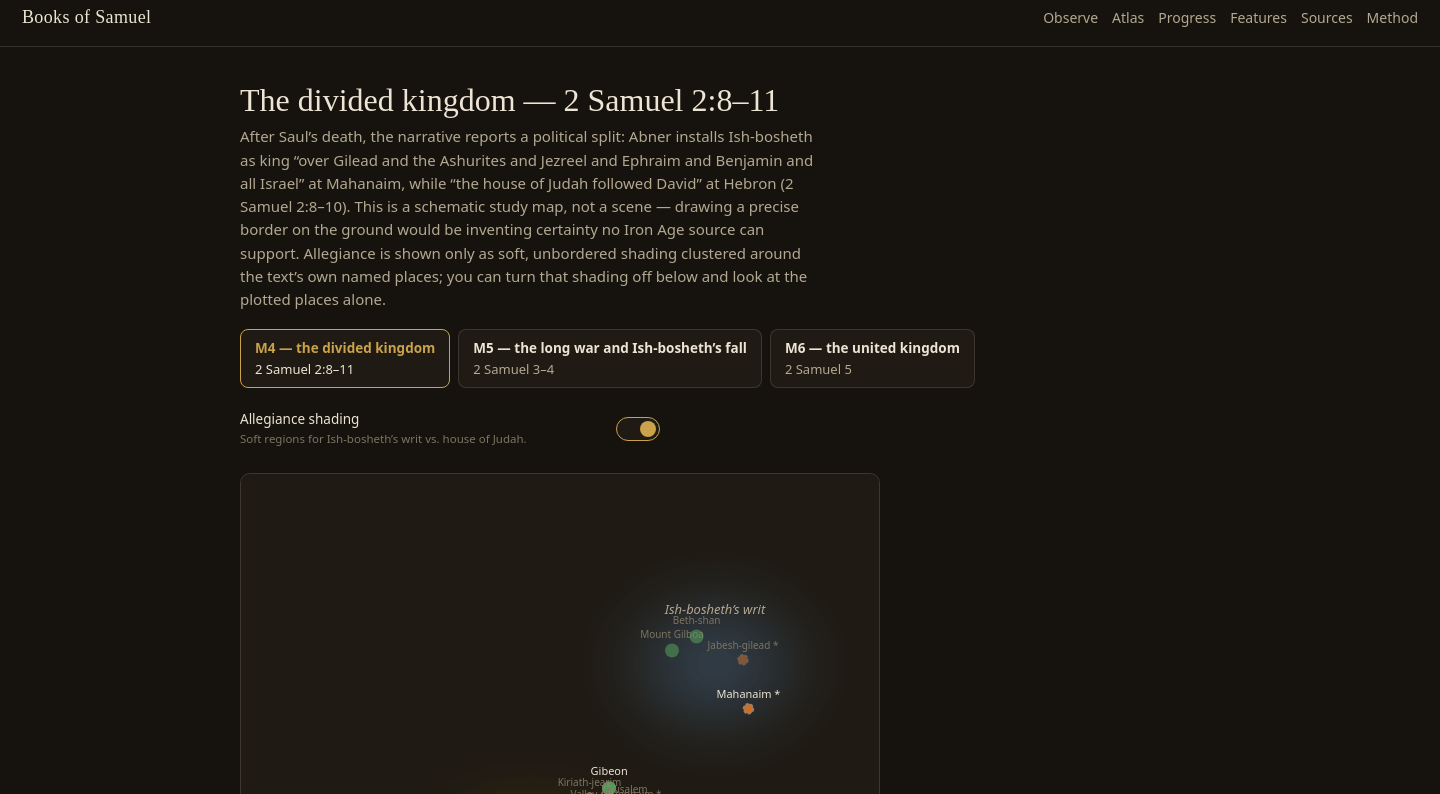
Scenario: AtlasPage M5 phase (2 Samuel 3–4 long war + northern collapse) › cites the cross-referenced M5 claims (long war, Abner’s break and killing, public response, assassination, atlas M5 phase)
Click the tab with test id "atlas-phase-m5" at (610, 359), box [458,329,762,388]
(page scrolled)
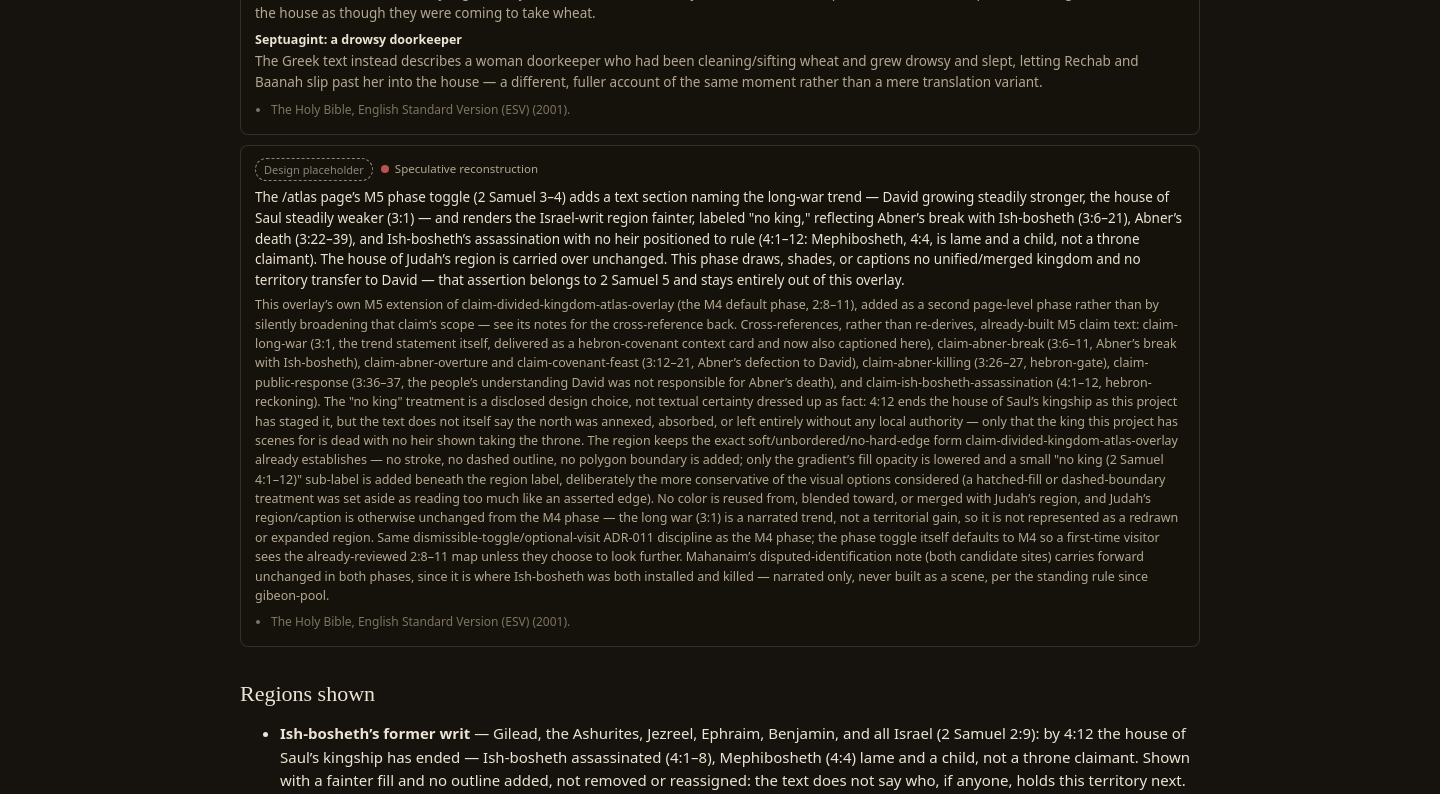
Expected: the element that starts with "Design placeholder" is shown, [240,145,1200,647]
